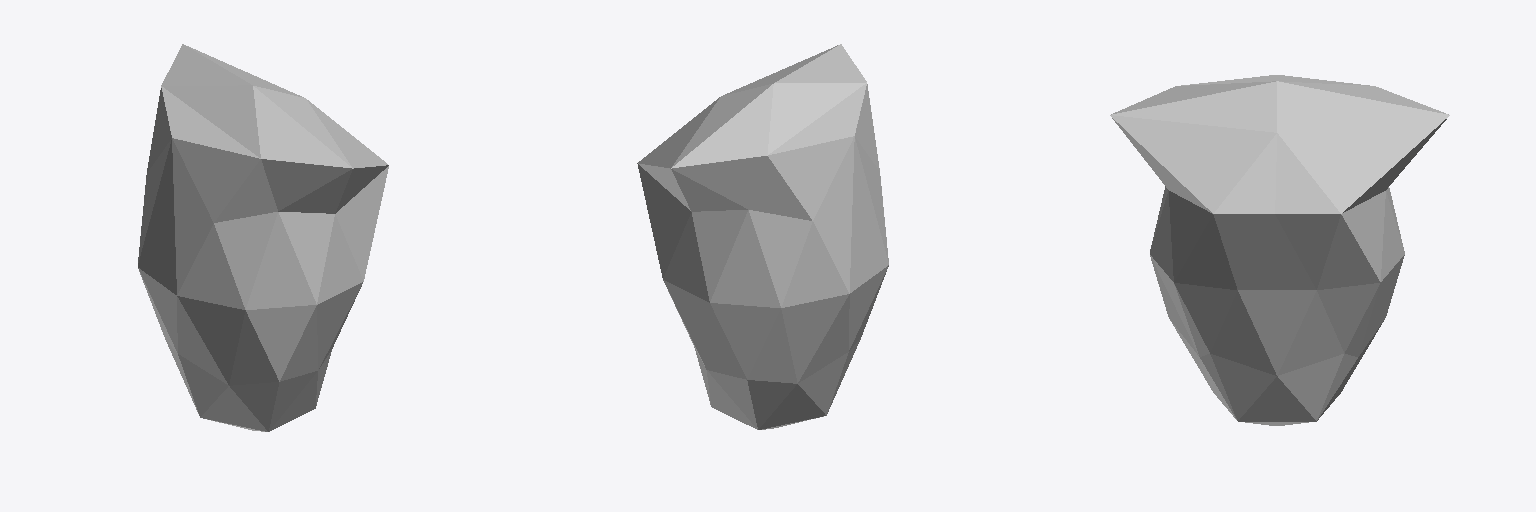
Rendered from follower torso.obj.
3 views of the same model, side by side, from view 1: azimuth 30°, elevation 25°; view 2: azimuth 150°, elevation 25°; view 3: azimuth 270°, elevation 25° (orthographic).
Visible parts, largest first — view 1: Torso; view 2: Torso; view 3: Torso.
Part boxes in pixels (x1,y1,x2,y2): Torso: (138, 44, 388, 431); Torso: (637, 44, 888, 429); Torso: (1110, 75, 1449, 425).
Bounding box in the file's own units: 1.64 × 2.7 × 2.41.